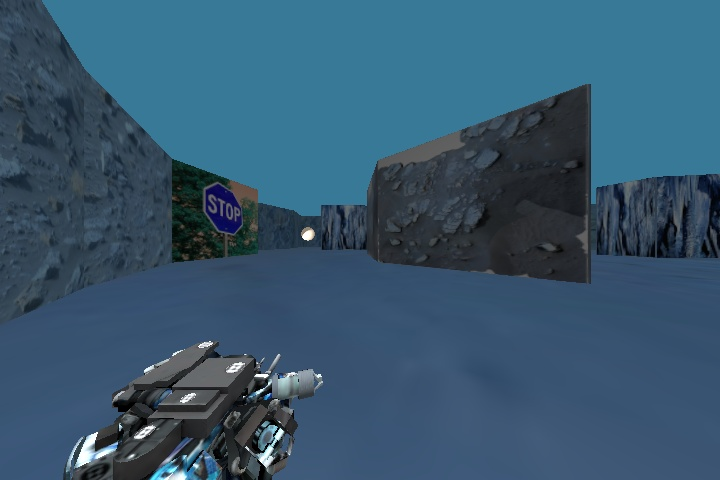stop_sign: (193, 170, 249, 241)
white_sphere: (293, 219, 320, 246)
